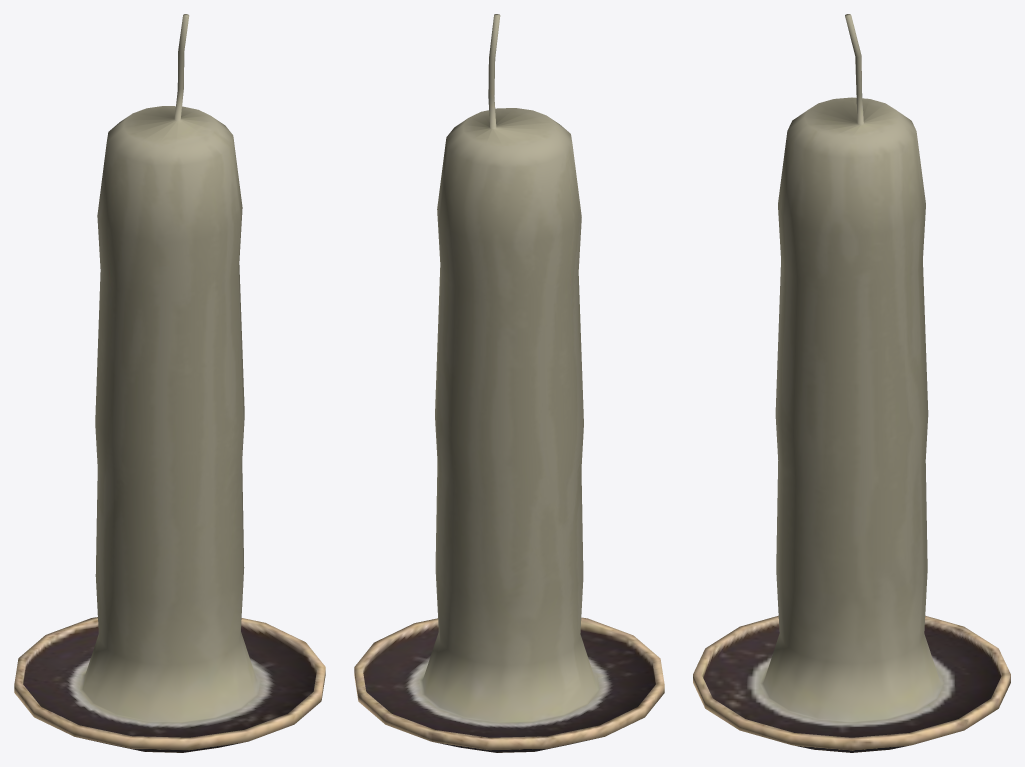
File: candle.fbx
The picture shows the model from 3 angles, left to right: view 1: azimuth 30°, elevation 25°; view 2: azimuth 150°, elevation 25°; view 3: azimuth 270°, elevation 25°; orthographic projection.
Visible parts, largest first — view 1: Candle_low; view 2: Candle_low; view 3: Candle_low.
Part boxes in pixels (left/top/right/bottom): Candle_low: left=14, top=14, right=325, bottom=752; Candle_low: left=354, top=14, right=664, bottom=752; Candle_low: left=693, top=14, right=1010, bottom=752.
Size of the model in its own units: 4.71 by 11.51 by 4.71.
